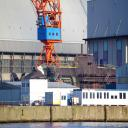submarine: (18, 53, 118, 83)
